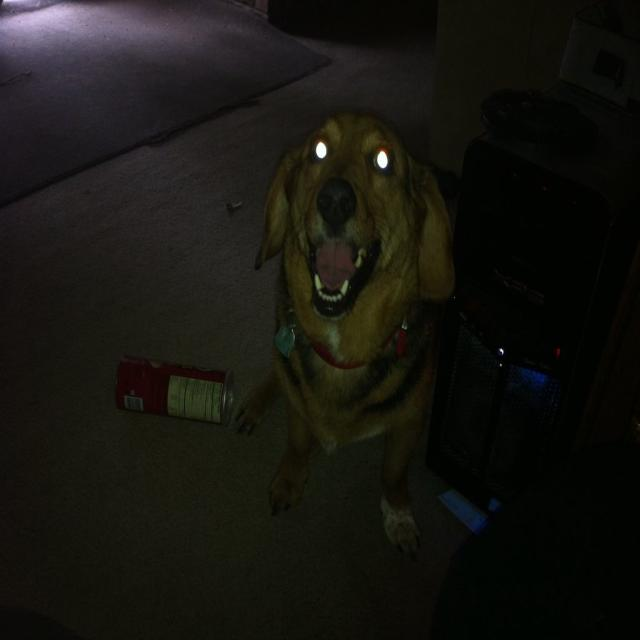Dog: (175, 69, 527, 495)
